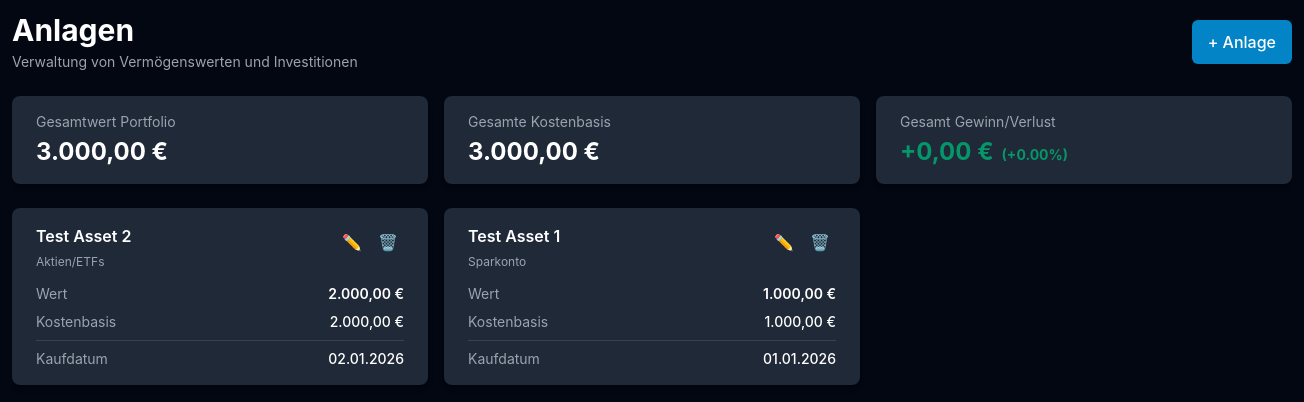
Test: deletes asset and updates UI immediately
This screenshot has width=1304, height=402.
Check: the text "Test Asset 1" is shown, box [468, 226, 560, 246]
Click the button titled "Löschen" in the row of "Test Asset 1": point(820, 242) [804, 224, 836, 260]
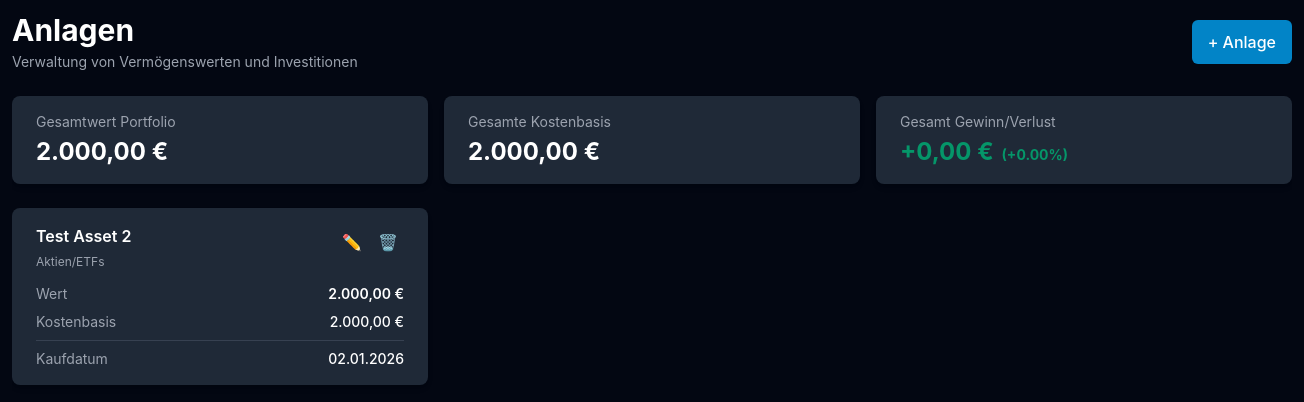
Check: the heading "Test Asset 2" is shown, box [36, 226, 132, 246]
Check: the heading "Test Asset 1" is gone
